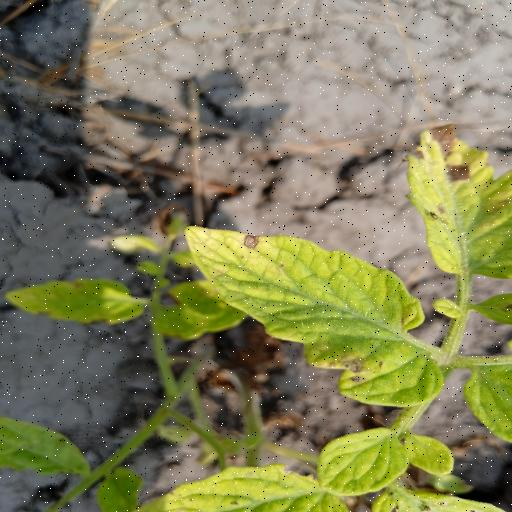Tomato_Brown_Spots: (181, 222, 449, 410), (401, 121, 512, 284)
